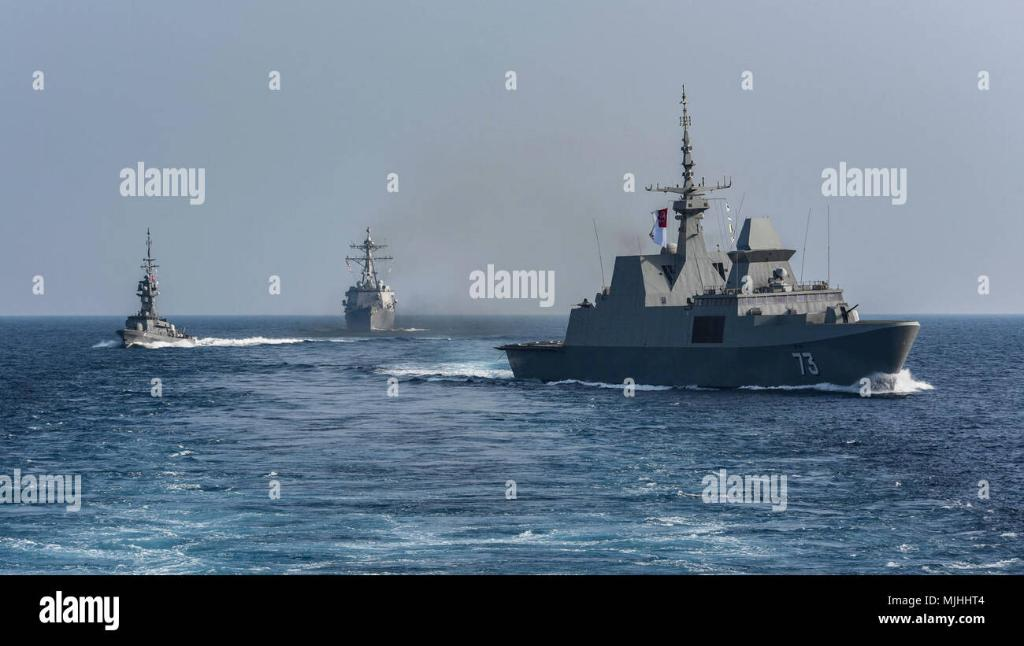Warship: (492, 76, 950, 393), (118, 226, 200, 352), (342, 216, 406, 332)
